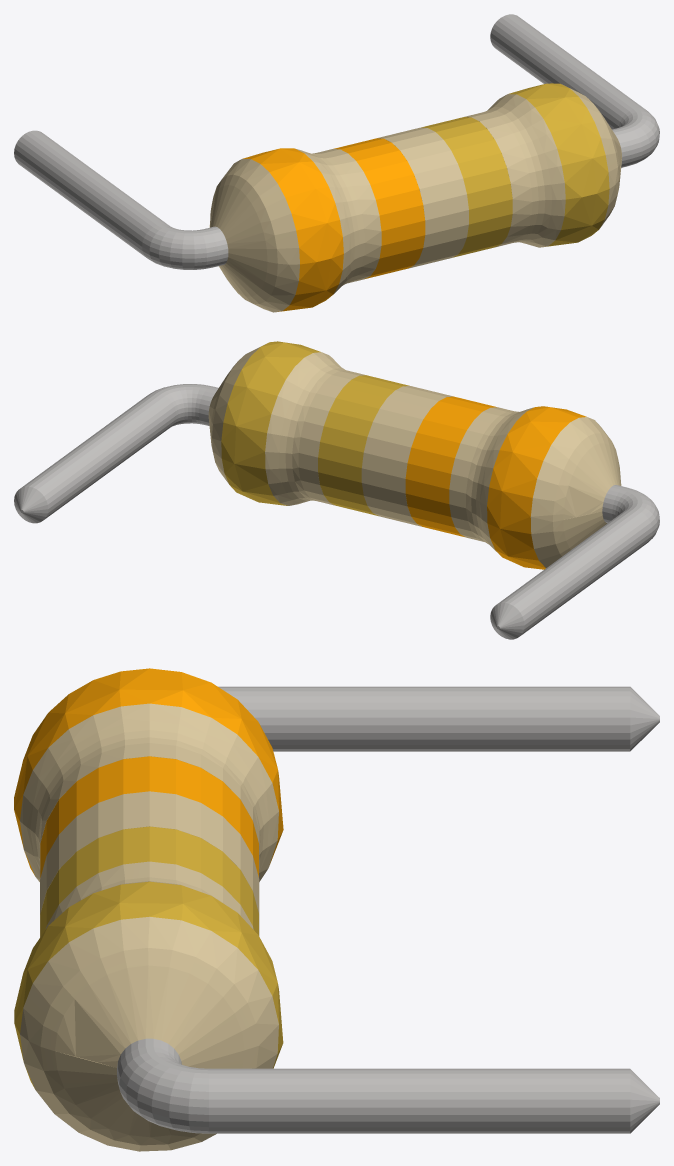
Rendered from Yageo CFR-25 Resistor Axial P7.62mm 3,3 Ohm.obj.
The picture shows the model from 3 angles, top to bottom: view 1: azimuth 30°, elevation 25°; view 2: azimuth 150°, elevation 25°; view 3: azimuth 270°, elevation 25°; orthographic projection. The views are drawn at different scales.
Parts seen in each view (by area): view 1: Yageo_CFR-25_Resistor_Axial_P7.62mm_3,3_Ohm; view 2: Yageo_CFR-25_Resistor_Axial_P7.62mm_3,3_Ohm; view 3: Yageo_CFR-25_Resistor_Axial_P7.62mm_3,3_Ohm.
Part boxes in pixels (x1,y1,x2,y2): Yageo_CFR-25_Resistor_Axial_P7.62mm_3,3_Ohm: (14,14,659,312); Yageo_CFR-25_Resistor_Axial_P7.62mm_3,3_Ohm: (14,341,659,639); Yageo_CFR-25_Resistor_Axial_P7.62mm_3,3_Ohm: (14,668,659,1151).
Size of the model in its own units: 0.0212 by 0.00584 by 0.0141.
